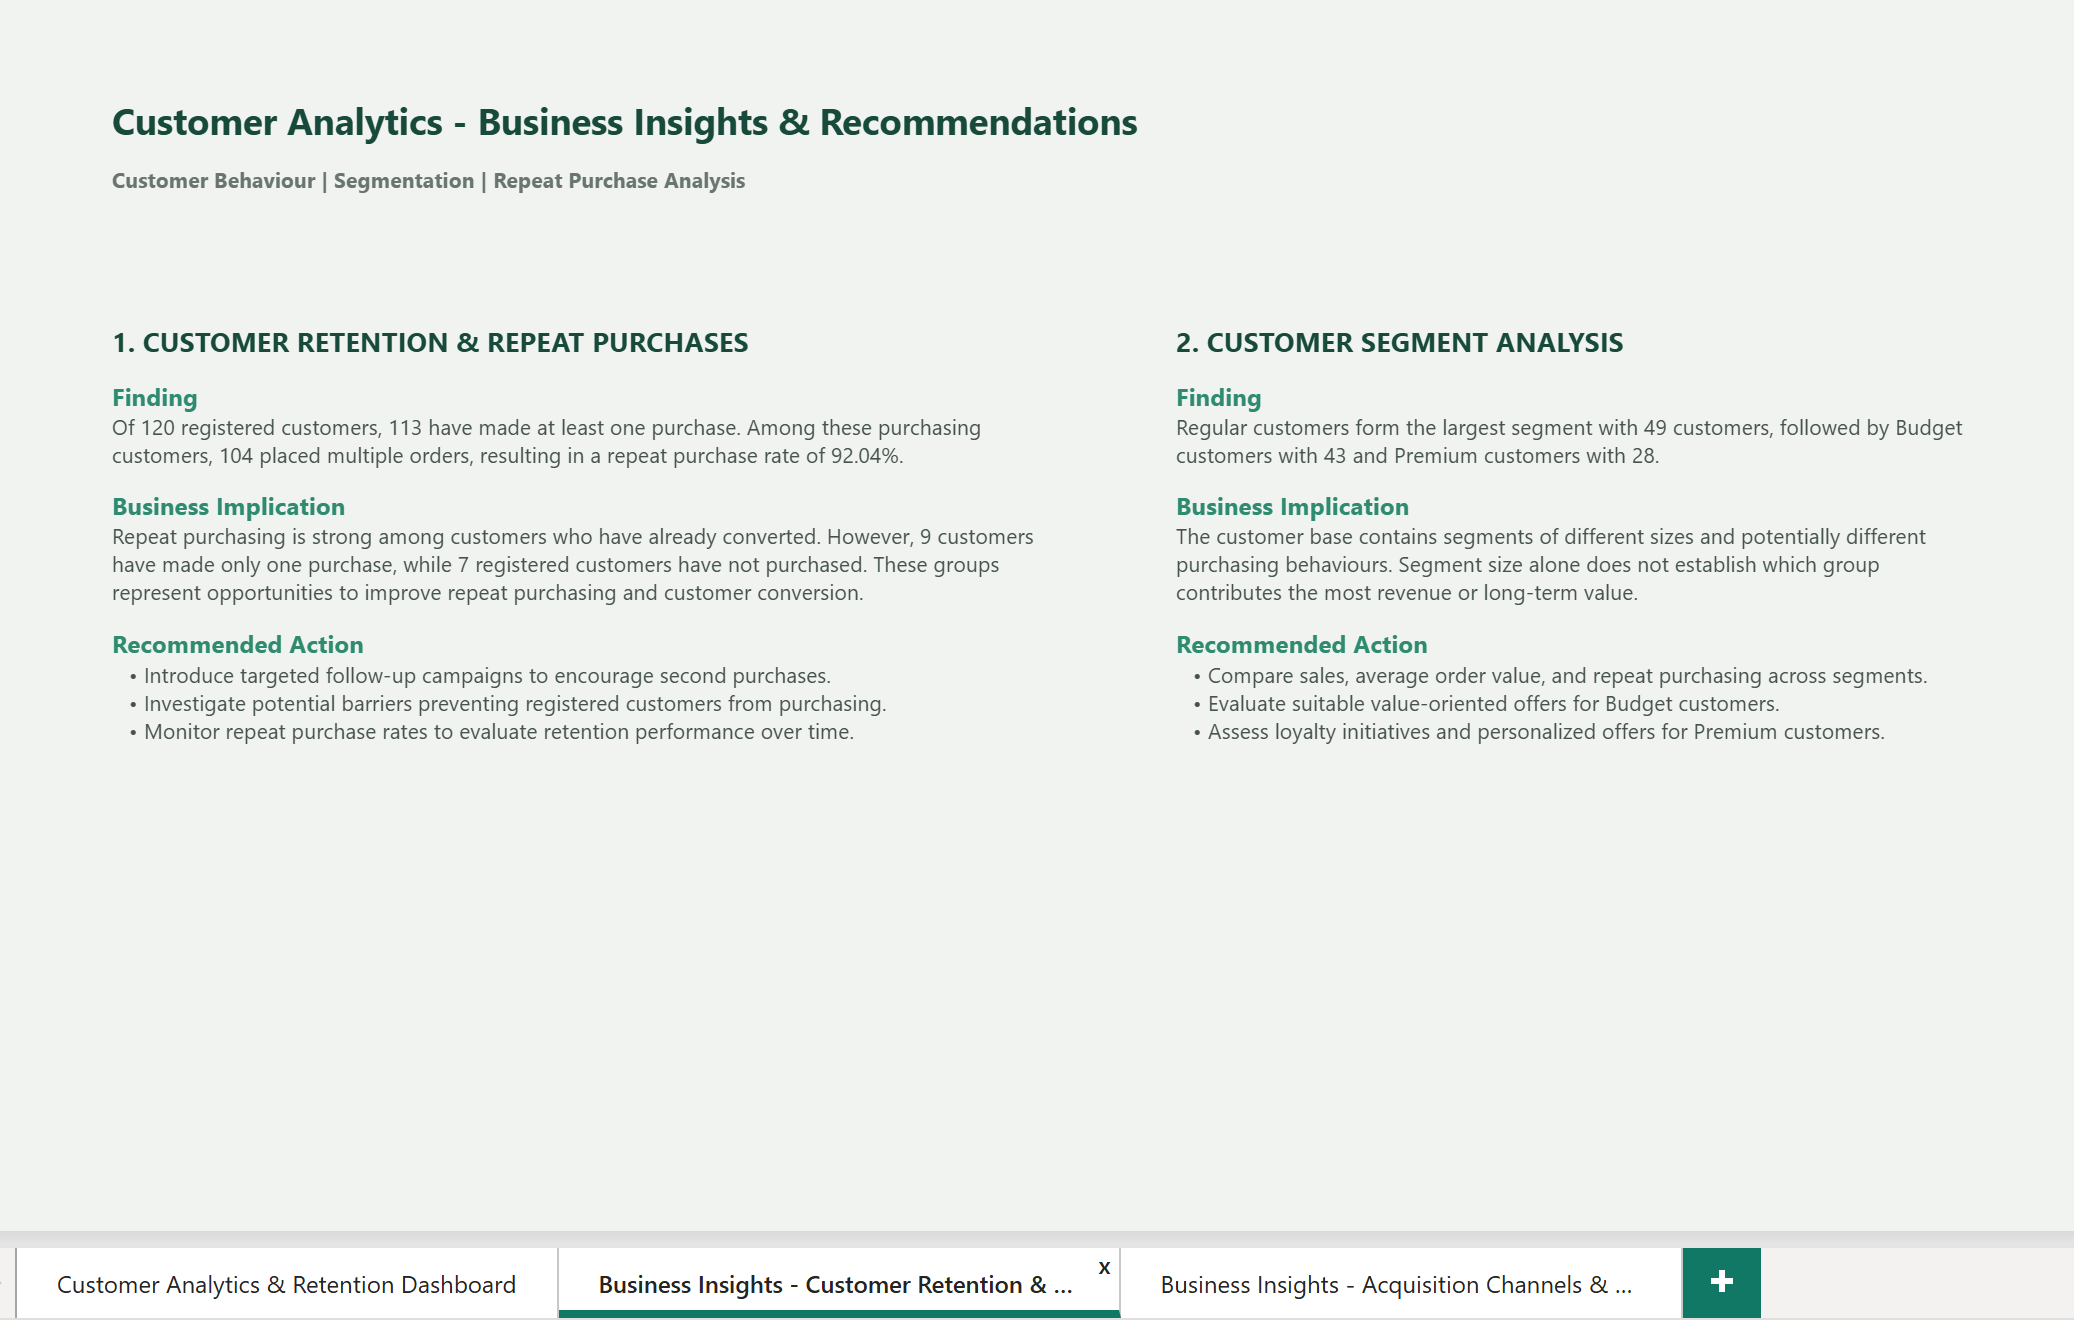

The page's visual inventory and layout, read from the dashboard file:
{"tool":"powerbi","page":{"name":"Business Insights - Customer Retention & Segmentation","canvas":[1920,1080],"ordinal":1},"visuals":[{"type":"textbox","box":[140.3,285.1,847.8,462.7],"z":0},{"type":"textbox","box":[1073.1,285.1,704.5,444.8],"z":1000},{"type":"textbox","box":[140.3,86.6,947.5,93.4],"z":5000}]}

Visuals, with their boxes on the page's 1920x1080 design canvas (x1, y1, x2, y2). These are canvas units, not pixel positions in the 2074x1320 screenshot, which may show the page scaled, cropped or inside an application window:
textbox: x1=140 y1=285 x2=988 y2=748
textbox: x1=1073 y1=285 x2=1778 y2=730
textbox: x1=140 y1=87 x2=1088 y2=180
